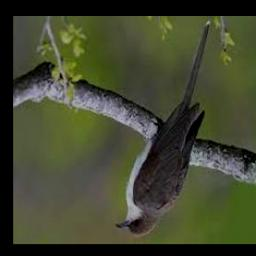Cuckoo: (117, 21, 211, 236)
